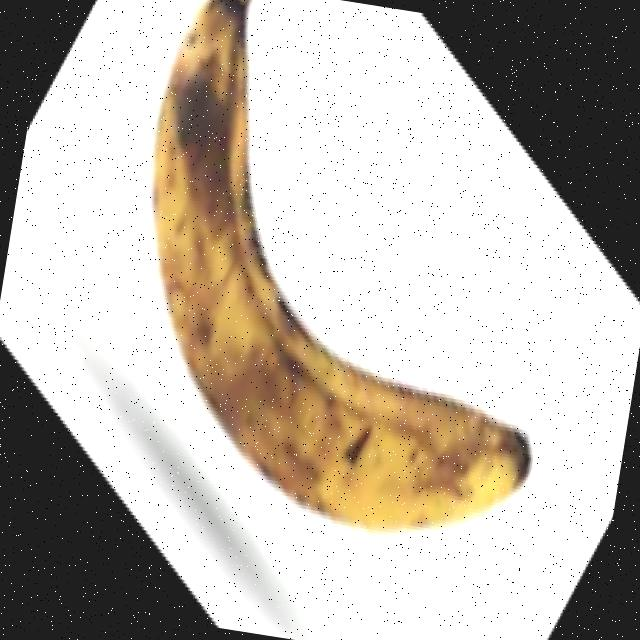overripe: (93, 0, 598, 555)
